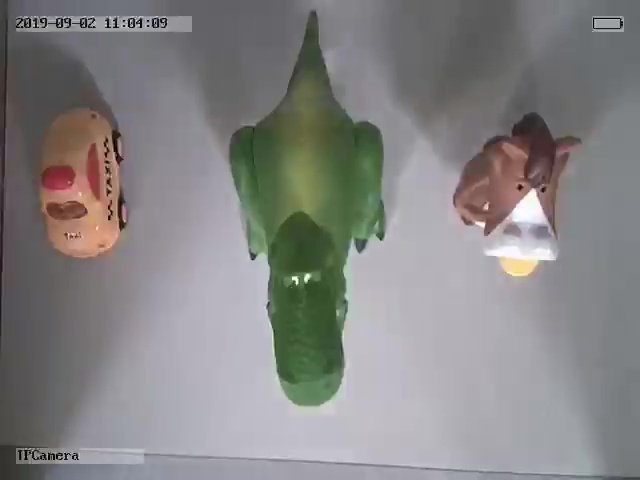car: (36, 106, 132, 259)
horse: (453, 113, 582, 278)
rex: (227, 13, 389, 407)
